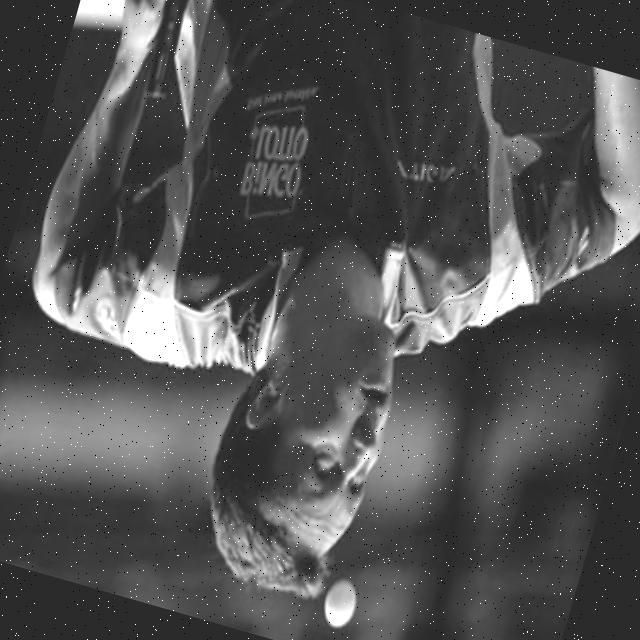ping-pong-ball: (309, 569, 363, 640)
